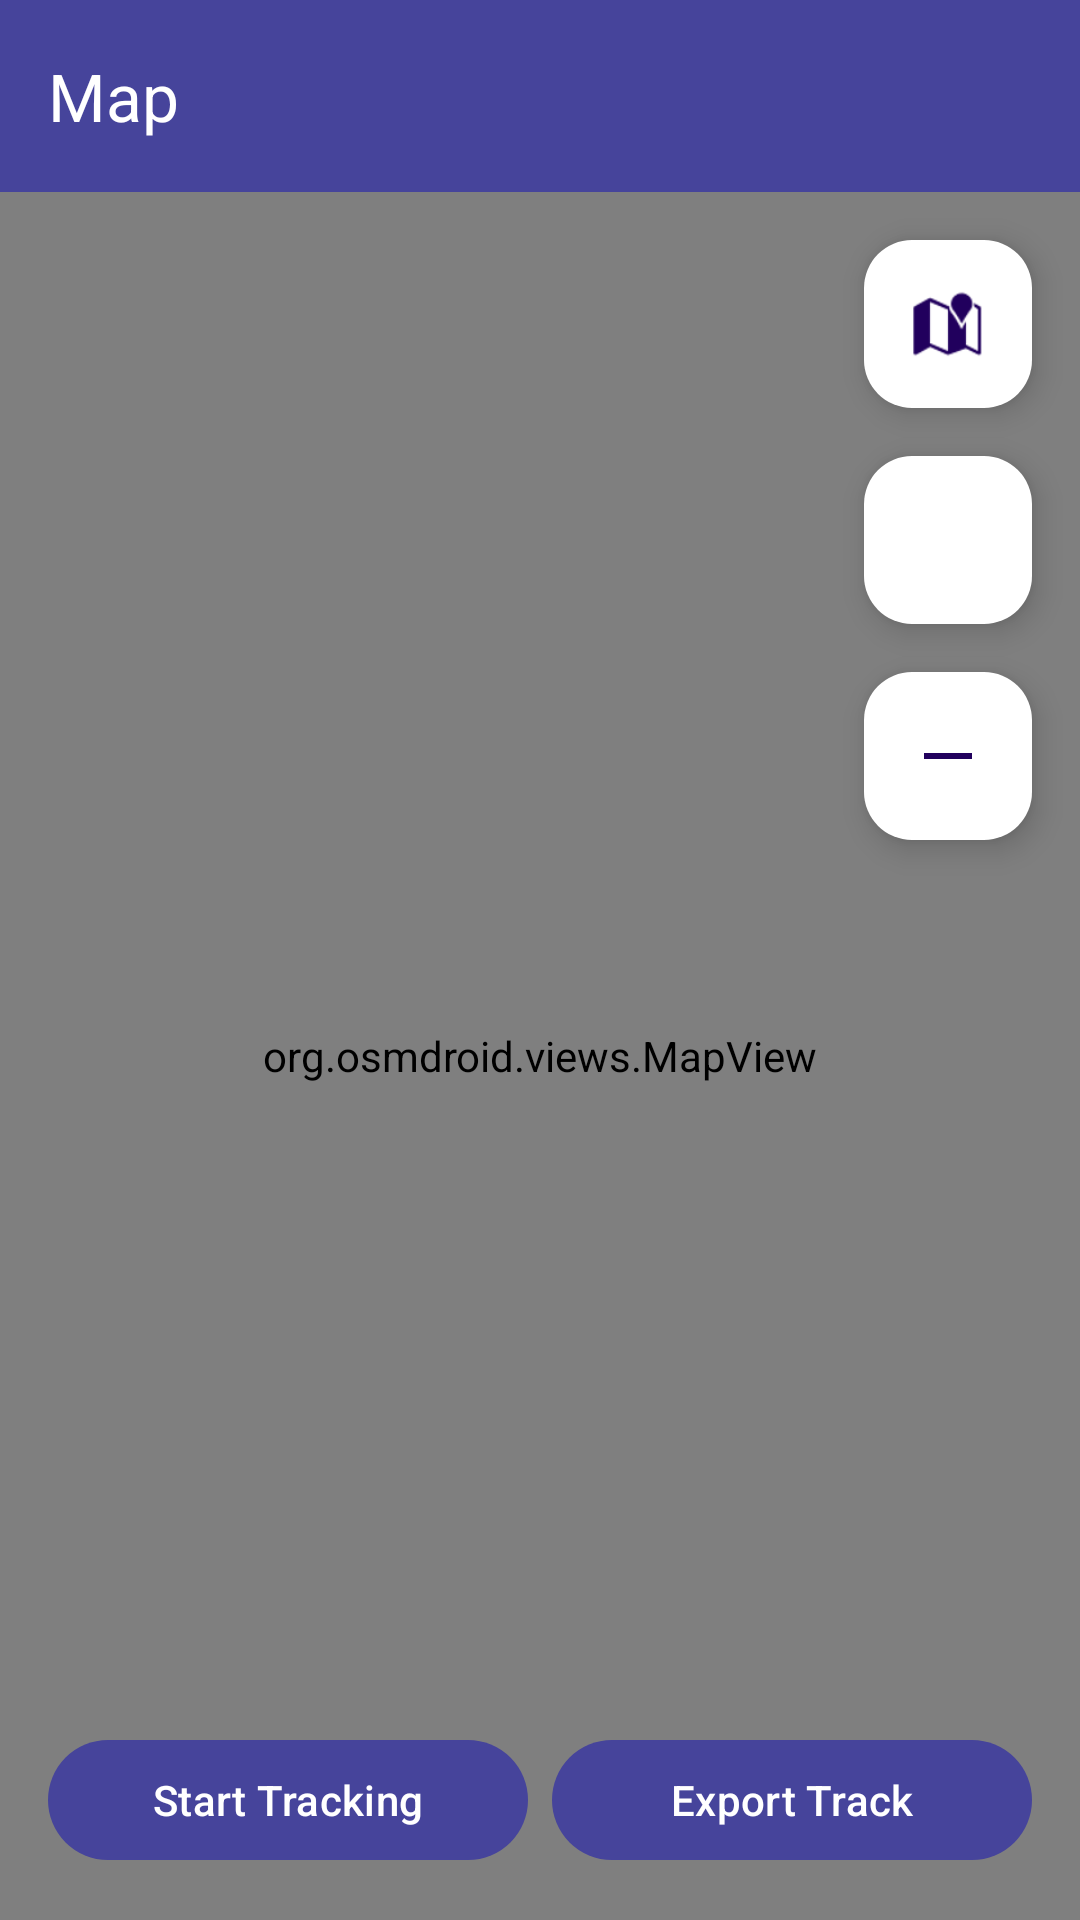

Icons on this 1080×1920 Android screen, each with its box as box(x1, y1, x2, y2):
horizontal rule: box(864, 672, 1032, 840)
map: box(864, 240, 1032, 408)
